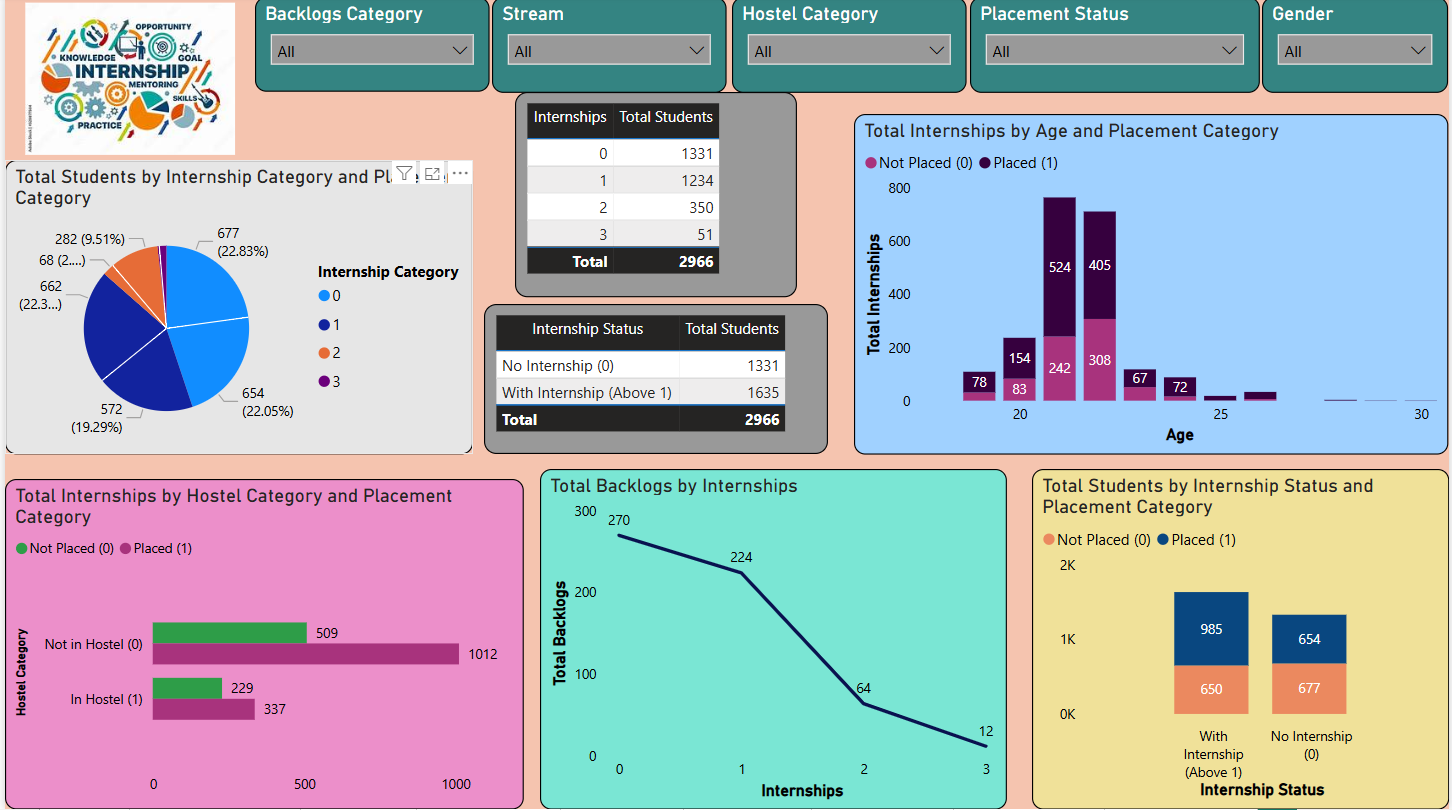

Layout of this report page (visuals, bound fields, positions):
{"tool":"powerbi","page":{"name":"Internship Analysis","canvas":[1280,720],"ordinal":3},"visuals":[{"type":"columnChart","fields":{"Category":["collegePlace.Internship Status"],"Series":["collegePlace. placement1"],"Y":["CountNonNull(collegePlace.Internships)"]},"box":[910.4,418.2,369.6,301.5],"z":0},{"type":"clusteredBarChart","fields":{"Category":["collegePlace.Hostel Category"],"Series":["collegePlace. placement1"],"Y":["Sum(collegePlace.Internships)"]},"box":[0,427,460.1,292.8],"z":1000},{"type":"lineChart","fields":{"Category":["collegePlace.Internships"],"Y":["Sum(collegePlace.HistoryOfBacklogs)"]},"box":[474.7,418.2,414.3,301.5],"z":2000},{"type":"pieChart","fields":{"Category":["collegePlace.Internships"],"Y":["CountNonNull(collegePlace.Internships)"],"Series":["collegePlace. placement1"]},"box":[0,144.9,415.3,260.7],"z":3000},{"type":"tableEx","fields":{"Values":["collegePlace.Internships","CountNonNull(collegePlace.Internships)1"]},"box":[452.3,84.6,250,181.9],"z":4000},{"type":"tableEx","fields":{"Values":["collegePlace.Internship Status","CountNonNull(collegePlace.Internships)"]},"box":[425,272.3,305.4,133.3],"z":5000},{"type":"slicer","title":"Backlogs Category","fields":{"Values":["collegePlace.Backlogs Category"]},"box":[221.7,0,208.4,84.2],"z":6000},{"type":"slicer","title":"Stream","fields":{"Values":["collegePlace.Stream"]},"box":[431.9,0,208.1,84.6],"z":7000},{"type":"slicer","title":"Hostel Category","fields":{"Values":["collegePlace.Hostel Category"]},"box":[644.9,0,208.1,84.6],"z":8000},{"type":"columnChart","fields":{"Category":["collegePlace.Age"],"Series":["collegePlace. placement1"],"Y":["Sum(collegePlace.Internships)"]},"box":[752.8,104.1,527.2,301.5],"z":9000},{"type":"image","box":[0,0,221.8,144.9],"z":10000},{"type":"slicer","title":"Gender","fields":{"Values":["collegePlace.Gender"]},"box":[1114.7,0,165.3,84.6],"z":11000},{"type":"slicer","title":"Placement Status","fields":{"Values":["collegePlace.placement status"]},"box":[855.9,0,256.8,84.6],"z":12000}]}

Visuals, with their boxes in screenshot pixels (x1, y1, x2, y2), scaled from the page's 1280x720 canvas onto the 1452x810 screenshot:
columnChart - collegePlace.Internship Status x collegePlace. placement1: BBox(1033, 470, 1451, 809)
clusteredBarChart - collegePlace.Hostel Category x collegePlace. placement1: BBox(0, 480, 522, 809)
lineChart - collegePlace.Internships x Sum(collegePlace.HistoryOfBacklogs): BBox(538, 470, 1008, 809)
pieChart - collegePlace.Internships x CountNonNull(collegePlace.Internships): BBox(0, 163, 471, 456)
tableEx - collegePlace.Internships x CountNonNull(collegePlace.Internships)1: BBox(513, 95, 797, 300)
tableEx - collegePlace.Internship Status x CountNonNull(collegePlace.Internships): BBox(482, 306, 829, 456)
"Backlogs Category" slicer: BBox(251, 0, 488, 95)
"Stream" slicer: BBox(490, 0, 726, 95)
"Hostel Category" slicer: BBox(732, 0, 968, 95)
columnChart - collegePlace.Age x collegePlace. placement1: BBox(854, 117, 1451, 456)
image: BBox(0, 0, 252, 163)
"Gender" slicer: BBox(1264, 0, 1451, 95)
"Placement Status" slicer: BBox(971, 0, 1262, 95)
